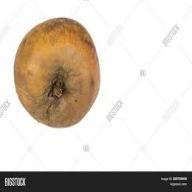apple: (13, 16, 99, 128)
